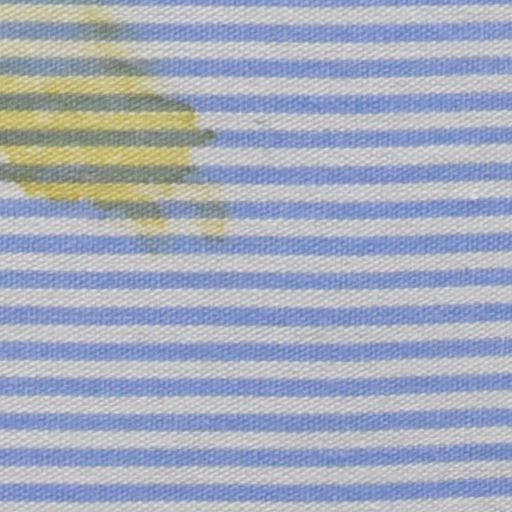defect: (1, 1, 203, 215)
